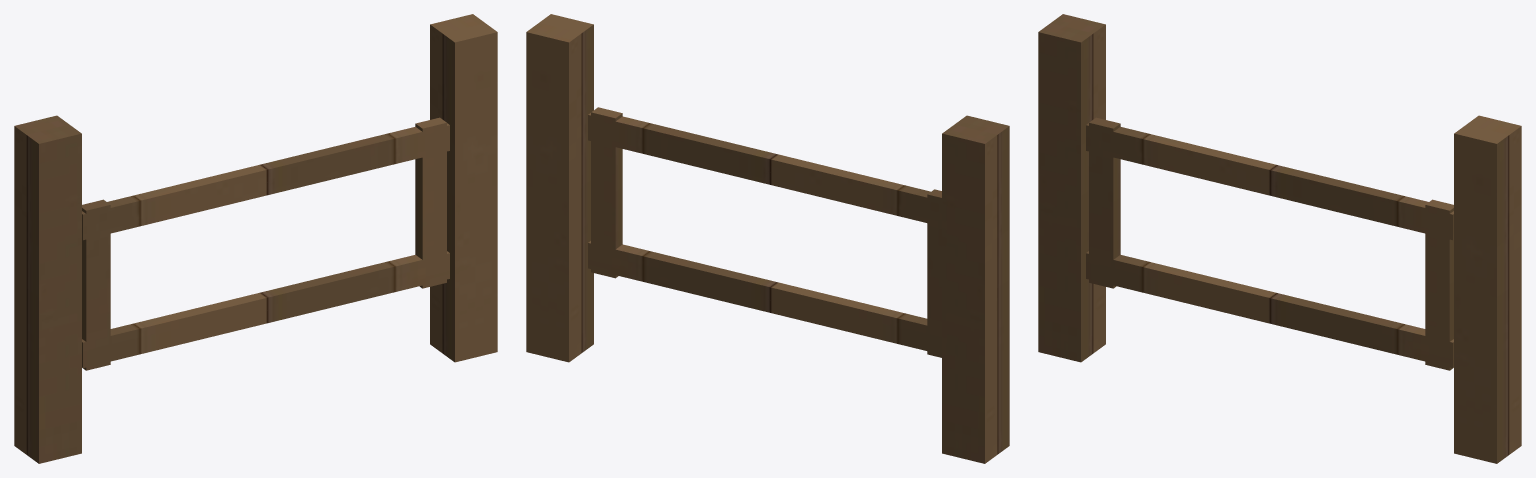
Rendered from prp_plotfence_gate_a_LOD2.glb.
3 views of the same model, side by side, from view 1: azimuth 30°, elevation 25°; view 2: azimuth 150°, elevation 25°; view 3: azimuth 330°, elevation 25° (orthographic).
Parts seen in each view (by area): view 1: prp_plotfence_gate_a_wood; view 2: prp_plotfence_gate_a_wood; view 3: prp_plotfence_gate_a_wood.
Boxes of the visible parts, left/top/right/bottom form: prp_plotfence_gate_a_wood: left=14, top=14, right=497, bottom=463; prp_plotfence_gate_a_wood: left=526, top=14, right=1009, bottom=463; prp_plotfence_gate_a_wood: left=1038, top=14, right=1521, bottom=463.
Bounding box in the file's own units: 1.5 × 1 × 0.14.
1 material, 1 textured.
